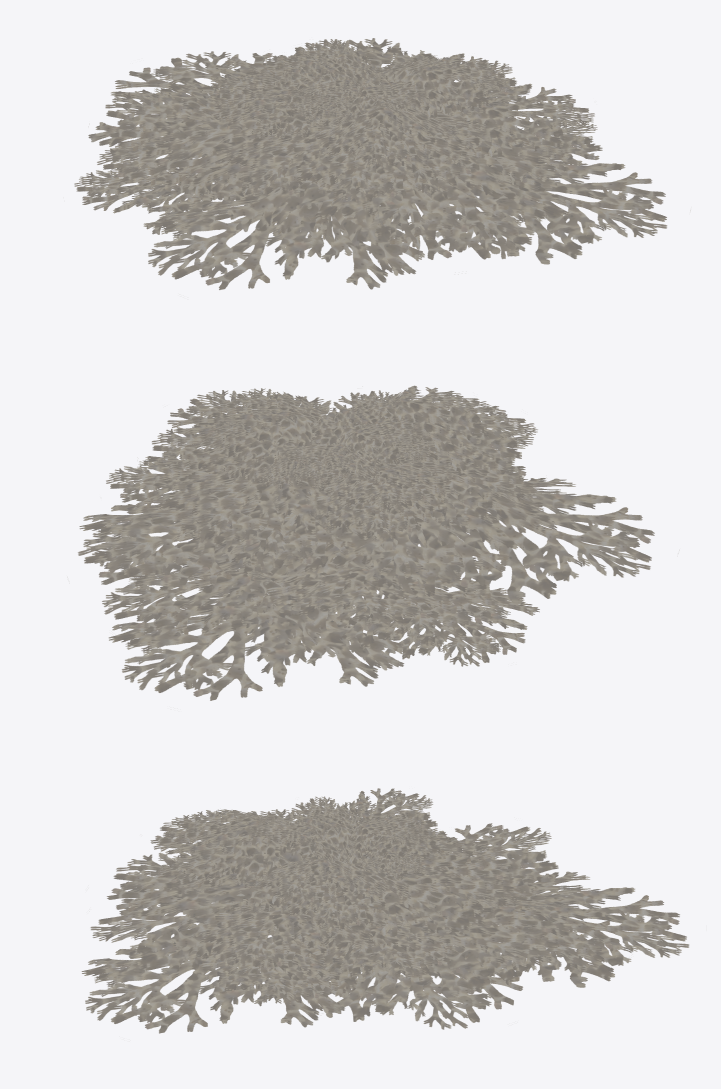
The model's file is Coral-Big_LOD0_FattooCreater.glb.
3 views of the same model, one above another, from view 1: azimuth 30°, elevation 25°; view 2: azimuth 150°, elevation 25°; view 3: azimuth 270°, elevation 25° (orthographic). The views are drawn at different scales.
Parts seen in each view (by area): view 1: Coral-Big_LOD0; view 2: Coral-Big_LOD0; view 3: Coral-Big_LOD0.
Part boxes in pixels (left/top/right/bottom): Coral-Big_LOD0: left=74, top=38, right=690, bottom=289; Coral-Big_LOD0: left=78, top=385, right=679, bottom=700; Coral-Big_LOD0: left=81, top=788, right=689, bottom=1033.
Size of the model in its own units: 0.3549 by 0.0765 by 0.378.
1 material, 1 textured.
